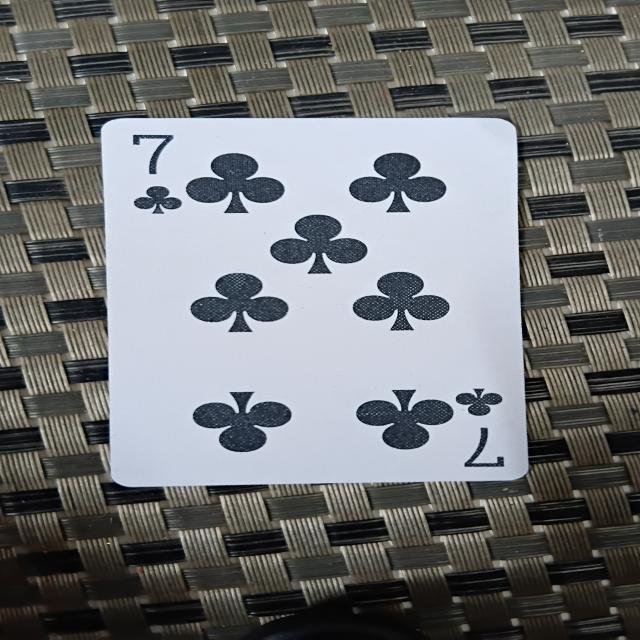7C: (92, 112, 535, 488)
